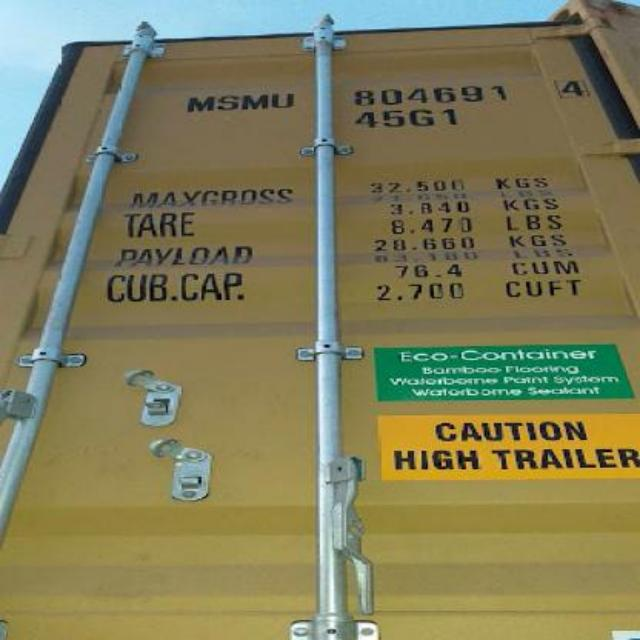0: (380, 82, 406, 106)
1: (488, 77, 514, 103)
4: (556, 75, 590, 99), (404, 80, 432, 106)
6: (434, 80, 460, 106)
8: (350, 85, 376, 111)
9: (458, 77, 488, 106)
M: (240, 82, 272, 118), (180, 91, 213, 112)
S: (214, 88, 240, 115)
U: (272, 86, 296, 110)
